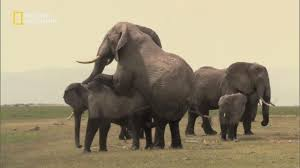Elephant: (189, 51, 274, 143)
